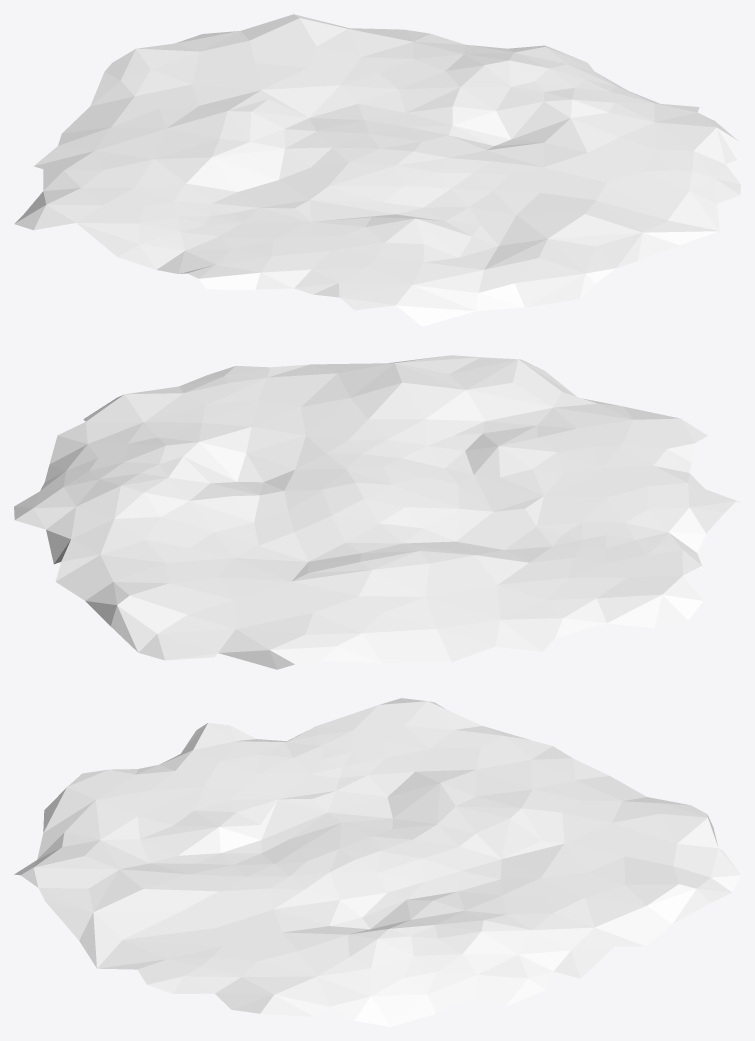
File: Plateau_Ground.fbx
The picture shows the model from 3 angles, top to bottom: view 1: azimuth 30°, elevation 25°; view 2: azimuth 150°, elevation 25°; view 3: azimuth 270°, elevation 25°; orthographic projection. The views are drawn at different scales.
Parts seen in each view (by area): view 1: Plateau_Ground; view 2: Plateau_Ground; view 3: Plateau_Ground.
Part boxes in pixels (x1=…): Plateau_Ground: x1=14, y1=14, x2=740, y2=326; Plateau_Ground: x1=14, y1=355, x2=739, y2=669; Plateau_Ground: x1=14, y1=698, x2=740, y2=1026.
Bounding box in the file's own units: 24.86 × 1.53 × 24.75.
